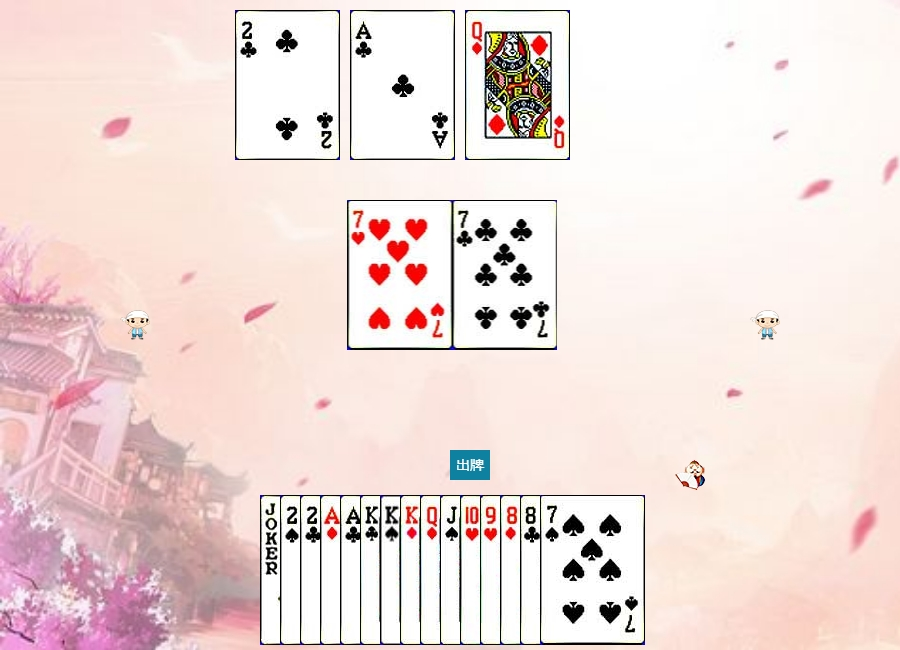10~3: (460, 495, 565, 645)
11~4: (440, 495, 545, 645)
12~1: (465, 10, 570, 160), (420, 495, 525, 645)
13~1: (400, 495, 505, 645)
13~2: (360, 495, 465, 645)
13~4: (380, 495, 485, 645)
14~1: (320, 495, 425, 645)
14~2: (350, 10, 455, 160), (340, 495, 445, 645)
15~2: (235, 10, 340, 160), (300, 495, 405, 645)
15~4: (280, 495, 385, 645)
17~3: (260, 495, 365, 645)
7~2: (453, 200, 558, 350)
7~3: (348, 200, 453, 350)
7~4: (540, 495, 645, 645)
8~1: (500, 495, 605, 645)
8~2: (520, 495, 625, 645)
9~3: (480, 495, 585, 645)
